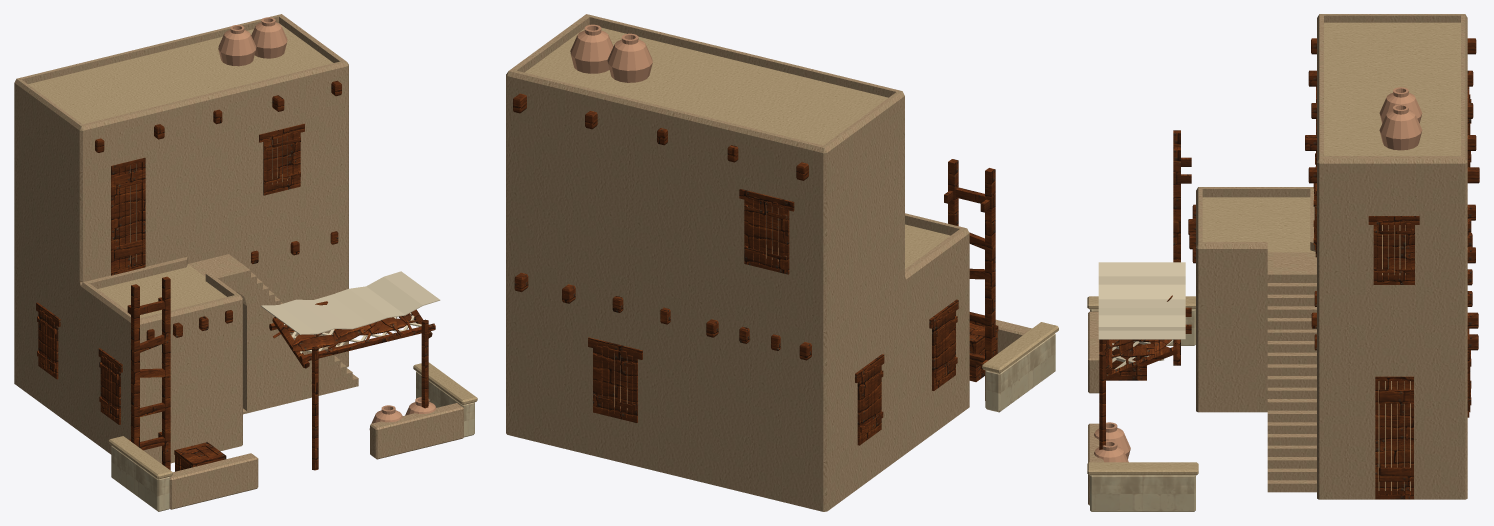
File: house-workshop.glb
3 renders of one model, left to right at view 1: azimuth 30°, elevation 25°; view 2: azimuth 150°, elevation 25°; view 3: azimuth 270°, elevation 25°, orthographic. The views are drawn at different scales.
Visible parts, largest first — view 1: house-workshop|3dtextures-lime-plaster, house-workshop|3dtextures-aged-wood, house-workshop|3dtextures-limestone-coping, house-workshop|woven-linen, house-workshop|fired-clay, house-workshop|3dtextures-dressed-limestone; view 2: house-workshop|3dtextures-lime-plaster, house-workshop|3dtextures-limestone-coping, house-workshop|3dtextures-aged-wood, house-workshop|fired-clay, house-workshop|3dtextures-dressed-limestone; view 3: house-workshop|3dtextures-lime-plaster, house-workshop|3dtextures-limestone-coping, house-workshop|3dtextures-aged-wood, house-workshop|woven-linen, house-workshop|3dtextures-dressed-limestone, house-workshop|fired-clay.
Boxes of the visible parts, box(x1,y1,x2,y2) form: house-workshop|3dtextures-lime-plaster: box(14, 14, 463, 509); house-workshop|3dtextures-aged-wood: box(36, 80, 435, 471); house-workshop|3dtextures-limestone-coping: box(28, 23, 477, 479); house-workshop|woven-linen: box(261, 271, 440, 353); house-workshop|fired-clay: box(218, 17, 436, 429); house-workshop|3dtextures-dressed-limestone: box(111, 371, 474, 511); house-workshop|3dtextures-lime-plaster: box(506, 14, 1031, 511); house-workshop|3dtextures-limestone-coping: box(525, 27, 1058, 409); house-workshop|3dtextures-aged-wood: box(513, 93, 998, 445); house-workshop|fired-clay: box(570, 24, 652, 82); house-workshop|3dtextures-dressed-limestone: box(985, 333, 1055, 412); house-workshop|3dtextures-lime-plaster: box(1088, 14, 1467, 505); house-workshop|3dtextures-limestone-coping: box(1087, 22, 1460, 490); house-workshop|3dtextures-aged-wood: box(1099, 38, 1479, 499); house-workshop|woven-linen: box(1098, 262, 1185, 369); house-workshop|3dtextures-dressed-limestone: box(1090, 309, 1195, 511); house-workshop|fired-clay: box(1094, 87, 1422, 462).
Size of the model in its own units: 6.17 by 6.06 by 5.86.
6 materials, 4 textured.
